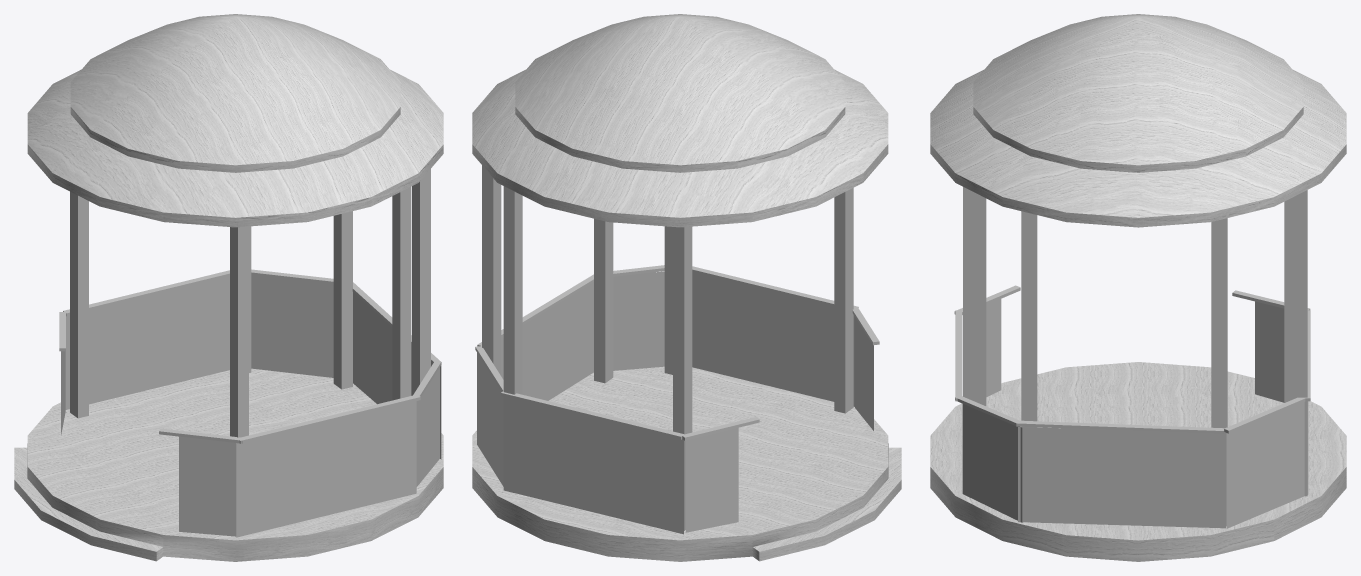
File: Geo_Gazibo.FBX
The picture shows the model from 3 angles, left to right: view 1: azimuth 30°, elevation 25°; view 2: azimuth 150°, elevation 25°; view 3: azimuth 270°, elevation 25°; orthographic projection.
Parts seen in each view (by area): view 1: Cylinder003, Cylinder001, Cylinder002, Plane002, Plane001, Plane005, Plane009, Box008, Box010, Box011, Box013, Plane003 (+6 smaller); view 2: Cylinder003, Cylinder001, Cylinder002, Plane001, Plane002, Plane003, Box009, Plane007, Plane008, Box011, Box008, Box012 (+8 smaller); view 3: Cylinder003, Cylinder001, Cylinder002, Plane003, Plane005, Plane007, Box009, Box012, Box010, Box013, Plane008, Box008 (+5 smaller).
Part boxes in pixels (box(x1,y1,x2,y2)): Cylinder003: box(70, 14, 400, 172); Cylinder001: box(14, 368, 443, 561); Cylinder002: box(27, 69, 443, 227); Plane002: box(236, 401, 416, 537); Plane001: box(65, 276, 229, 409); Plane005: box(251, 275, 333, 377); Plane009: box(179, 436, 236, 536); Box008: box(70, 191, 88, 418); Box010: box(392, 187, 411, 400); Box011: box(230, 226, 248, 437); Box013: box(412, 169, 430, 395); Plane003: box(353, 292, 441, 459); Cylinder003: box(515, 14, 845, 172); Cylinder001: box(472, 366, 901, 561); Cylinder002: box(472, 69, 888, 227); Plane001: box(514, 399, 683, 534); Plane002: box(692, 272, 854, 406); Plane003: box(501, 283, 593, 400); Box009: box(503, 186, 522, 492); Plane007: box(593, 271, 664, 372); Plane008: box(686, 427, 738, 532); Box011: box(834, 188, 853, 413); Box008: box(673, 226, 692, 530); Box012: box(482, 165, 501, 375); Cylinder003: box(973, 14, 1303, 172); Cylinder001: box(930, 362, 1346, 561); Cylinder002: box(930, 70, 1346, 227); Plane003: box(1018, 427, 1225, 528); Plane005: box(1226, 401, 1308, 528); Plane007: box(962, 404, 1022, 522); Box009: box(1291, 190, 1307, 496); Box012: box(1211, 218, 1227, 526); Box010: box(970, 190, 986, 405); Box013: box(1021, 211, 1037, 427); Plane008: box(1255, 301, 1284, 402); Box008: box(1284, 198, 1291, 402).
Bounding box in the file's own units: 330 × 381 × 315.
